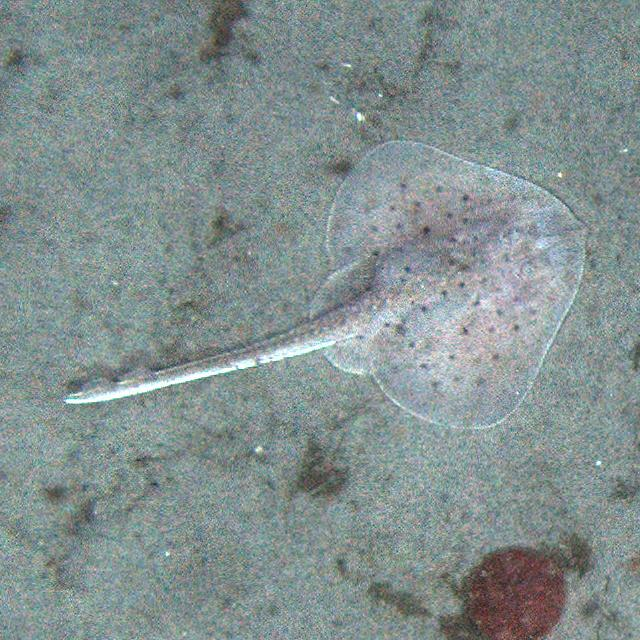skate: (48, 137, 593, 434)
